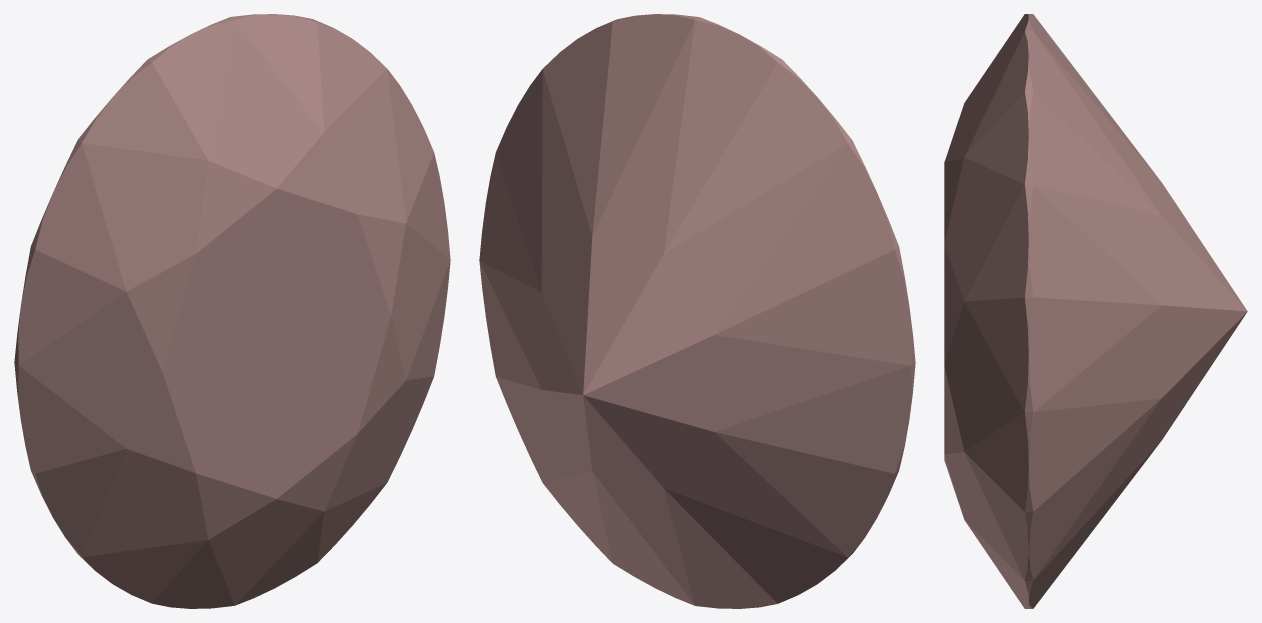
File: hedy.glb
3 renders of one model, left to right at view 1: azimuth 30°, elevation 25°; view 2: azimuth 150°, elevation 25°; view 3: azimuth 270°, elevation 25°, orthographic. The views are drawn at different scales.
Visible parts, largest first — view 1: Hedy; view 2: Hedy; view 3: Hedy.
Part boxes in pixels (bbox=[...]): Hedy: bbox=[14, 14, 450, 608]; Hedy: bbox=[479, 14, 915, 608]; Hedy: bbox=[944, 14, 1247, 608].
Bounding box in the file's own units: 1.92 × 2.49 × 1.22.
